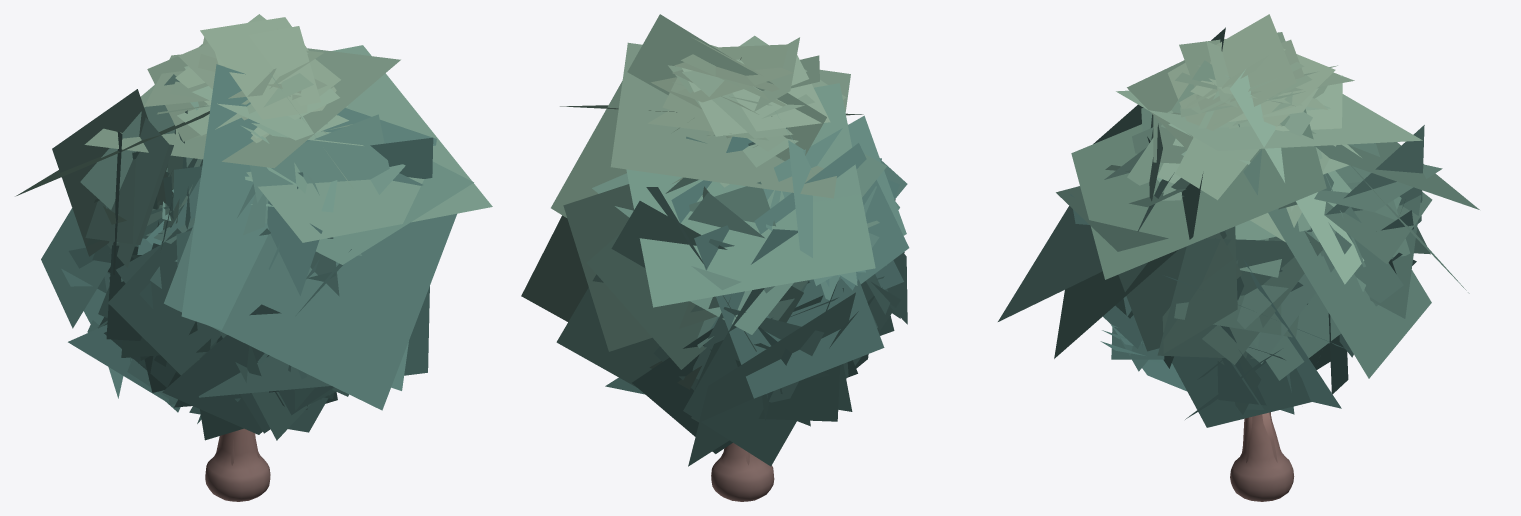
File: yew_v2.glb
3 views of the same model, side by side, from view 1: azimuth 30°, elevation 25°; view 2: azimuth 150°, elevation 25°; view 3: azimuth 270°, elevation 25° (orthographic). The views are drawn at different scales.
Visible parts, largest first — view 1: far, near; view 2: far, near; view 3: near, far.
Part boxes in pixels (x1,y1,x2,y2): far: (15, 44, 492, 465); near: (52, 14, 405, 501); far: (521, 14, 899, 466); near: (563, 35, 909, 501); near: (1070, 14, 1469, 501); far: (998, 27, 1479, 462).
Size of the model in its own units: 8.39 by 10.45 by 10.35.
